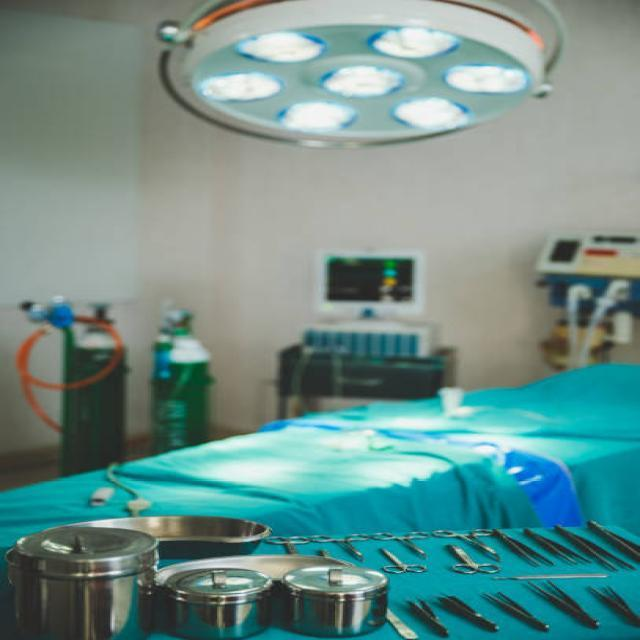Monitor: (0, 490, 640, 640)
